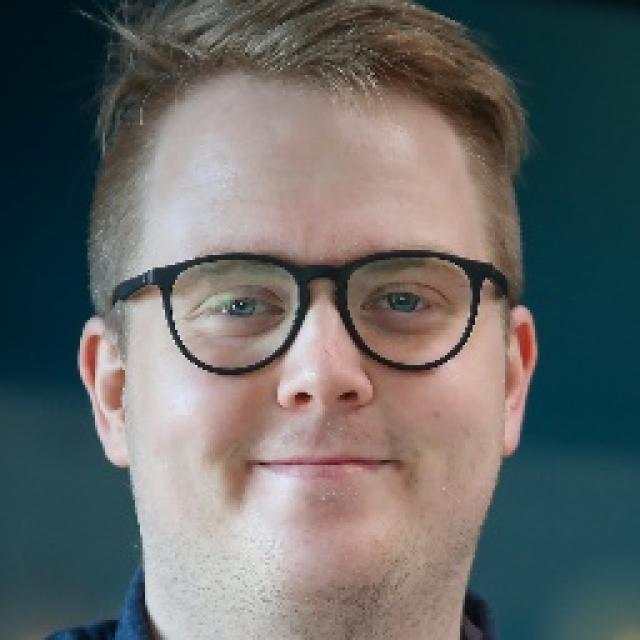earlobe: (99, 433, 135, 472), (501, 428, 523, 462)
eye: (199, 290, 288, 329), (366, 289, 450, 324)
nose: (277, 394, 375, 440)
wholeear: (75, 318, 133, 472), (501, 306, 538, 463)
